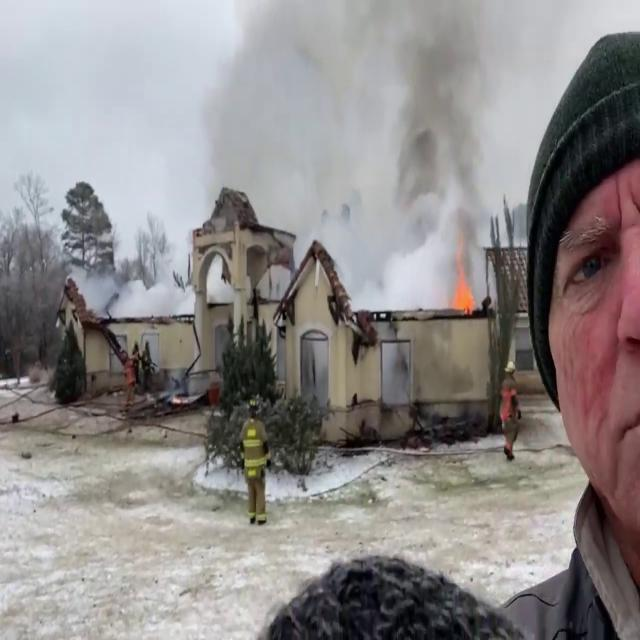Fire: (450, 254, 476, 320)
Smoke: (196, 0, 502, 281)
